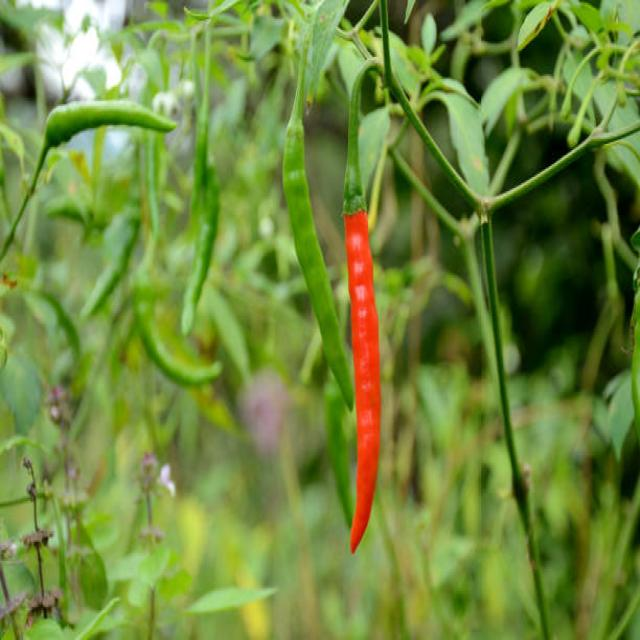Ripe: (345, 212, 380, 552)
Unripe: (282, 45, 354, 409), (45, 100, 176, 146)
